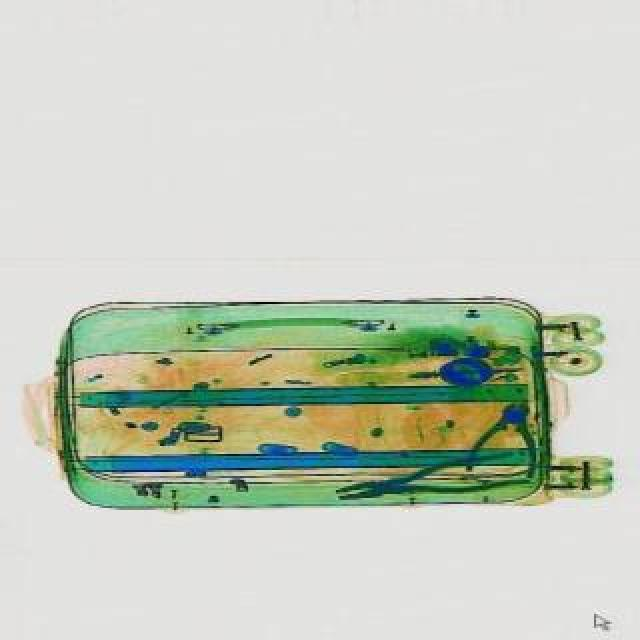wrench: (330, 450, 516, 510), (462, 396, 546, 484)
